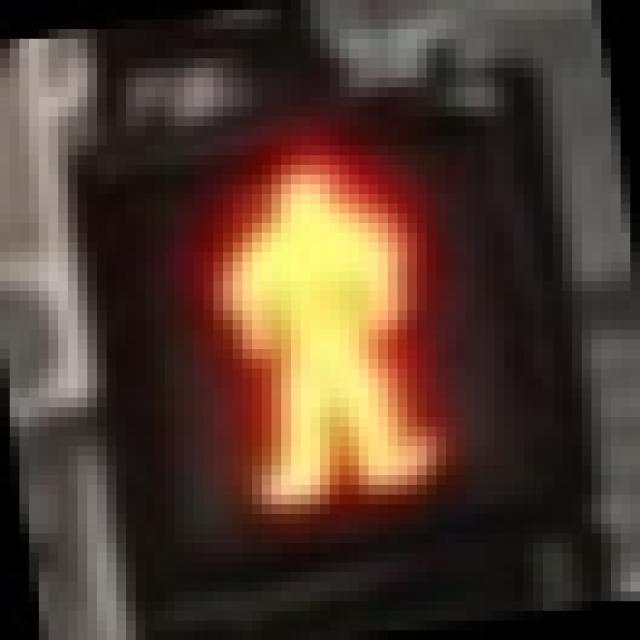red-crossing: (70, 70, 544, 544)
